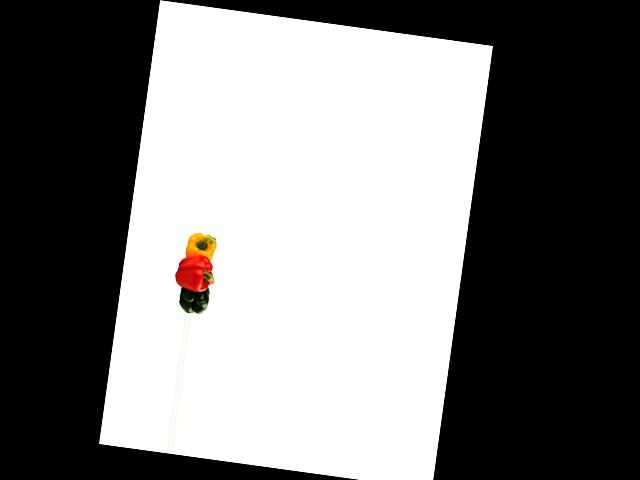bell_pepper: (178, 229, 221, 264)
